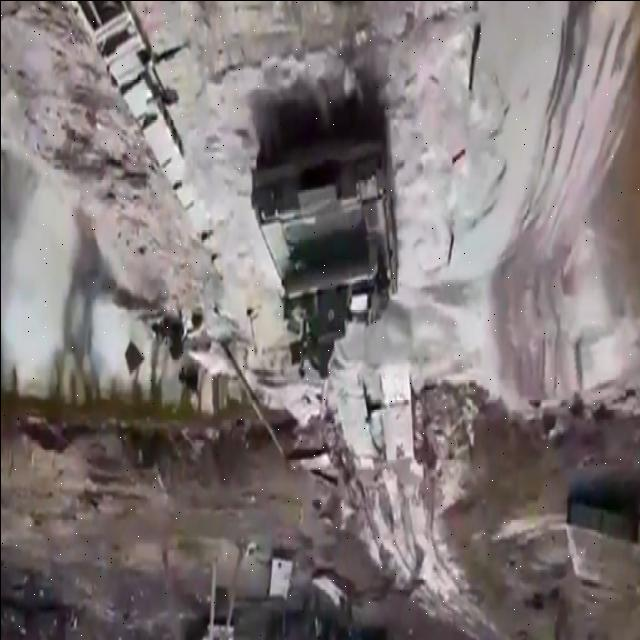TANK: (254, 138, 408, 360)
